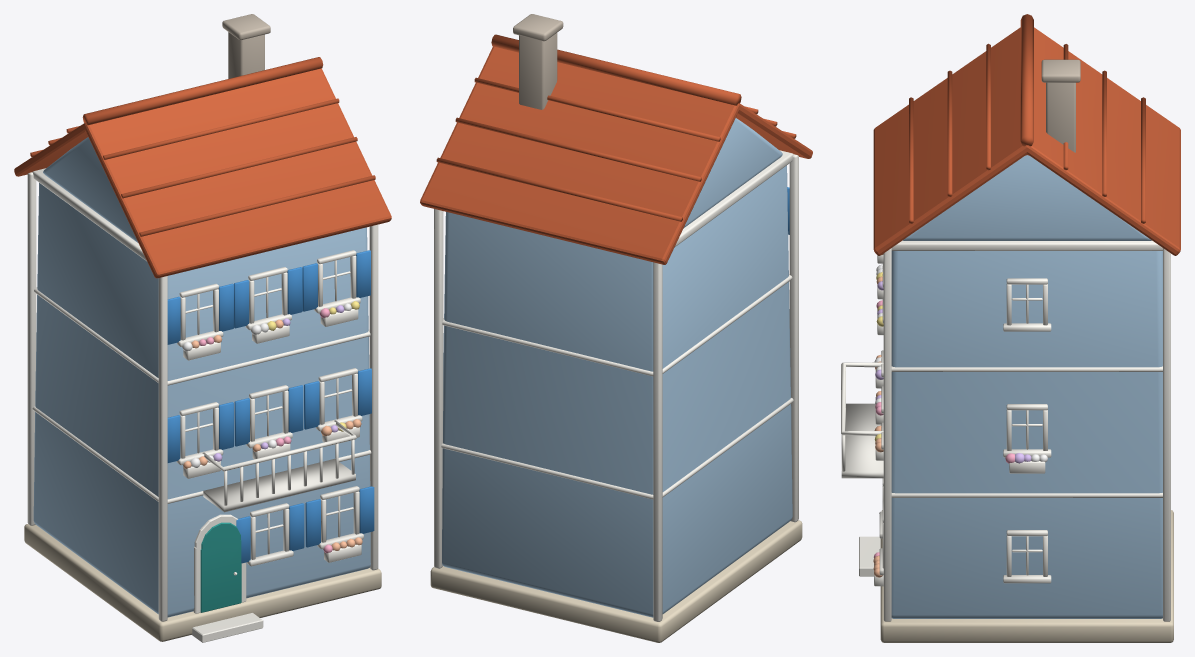
File: house_c.glb
3 views of the same model, side by side, from view 1: azimuth 30°, elevation 25°; view 2: azimuth 150°, elevation 25°; view 3: azimuth 270°, elevation 25° (orthographic). The views are drawn at different scales.
Parts seen in each view (by area): view 1: House_C_Wall, House_C_Roof, House_C_Trim, House_C_WindowTrim, House_C_Shutters, House_C_Plinth, House_C_RoofTiles, House_C_Balcony, House_C_Door, House_C_DoorFrame, House_C_Chimney, House_C_Flowers; view 2: House_C_Wall, House_C_Roof, House_C_Trim, House_C_Plinth, House_C_RoofTiles, House_C_Chimney; view 3: House_C_Wall, House_C_Roof, House_C_Trim, House_C_Plinth, House_C_WindowTrim, House_C_RoofTiles, House_C_Balcony, House_C_Chimney, House_C_Flowers, House_C_DoorFrame.
Boxes of the visible parts, <box> form: House_C_Wall: <box>33,137,370,617</box>; House_C_Roof: <box>14,68,391,278</box>; House_C_Trim: <box>27,168,378,621</box>; House_C_WindowTrim: <box>176,250,363,566</box>; House_C_Shutters: <box>167,250,374,563</box>; House_C_Plinth: <box>24,524,381,641</box>; House_C_RoofTiles: <box>30,57,375,236</box>; House_C_Balcony: <box>202,420,356,512</box>; House_C_Door: <box>200,522,241,612</box>; House_C_DoorFrame: <box>191,514,263,642</box>; House_C_Chimney: <box>222,14,270,78</box>; House_C_Flowers: <box>182,301,362,553</box>; House_C_Wall: <box>442,118,792,617</box>; House_C_Roof: <box>420,46,812,264</box>; House_C_Trim: <box>434,150,798,621</box>; House_C_Plinth: <box>430,520,802,642</box>; House_C_RoofTiles: <box>436,34,796,221</box>; House_C_Chimney: <box>513,14,563,109</box>; House_C_Wall: <box>891,155,1162,618</box>; House_C_Roof: <box>873,27,1180,255</box>; House_C_Trim: <box>883,240,1170,621</box>; House_C_Plinth: <box>880,510,1173,642</box>; House_C_WindowTrim: <box>874,254,1051,586</box>; House_C_RoofTiles: <box>909,14,1145,223</box>; House_C_Balcony: <box>841,362,883,478</box>; House_C_Chimney: <box>1041,59,1080,152</box>; House_C_Flowers: <box>873,254,1047,577</box>; House_C_DoorFrame: <box>859,511,882,576</box>.
Bounding box in the file's own units: 5.78 × 12.09 × 6.77.
